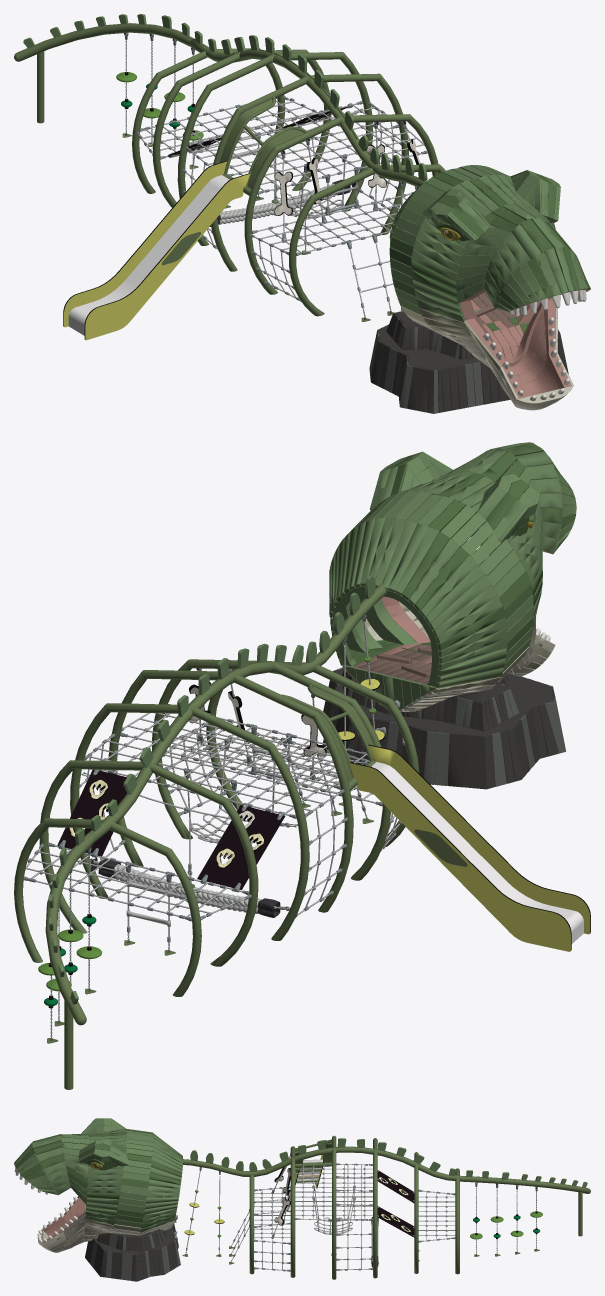
The model's file is rgss-1011-p-t-rex.glb.
3 views of the same model, one above another, from view 1: azimuth 30°, elevation 25°; view 2: azimuth 150°, elevation 25°; view 3: azimuth 270°, elevation 25° (orthographic). The views are drawn at different scales.
Parts seen in each view (by area): view 1: Gövde617; view 2: Gövde617; view 3: Gövde617.
Part boxes in pixels (bbox=[...]): Gövde617: bbox=[14, 14, 590, 413]; Gövde617: bbox=[14, 442, 590, 1089]; Gövde617: bbox=[14, 1118, 590, 1281].
Size of the model in its own units: 4.99 by 2.74 by 11.22.
Materials: 1 (1 with a texture image).
